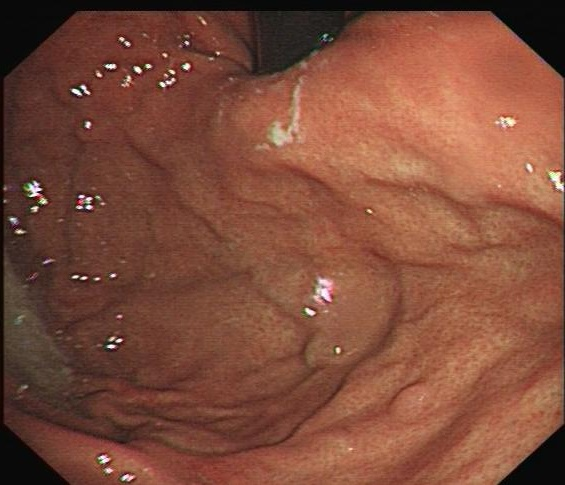Polyp: (386, 374, 440, 425)
